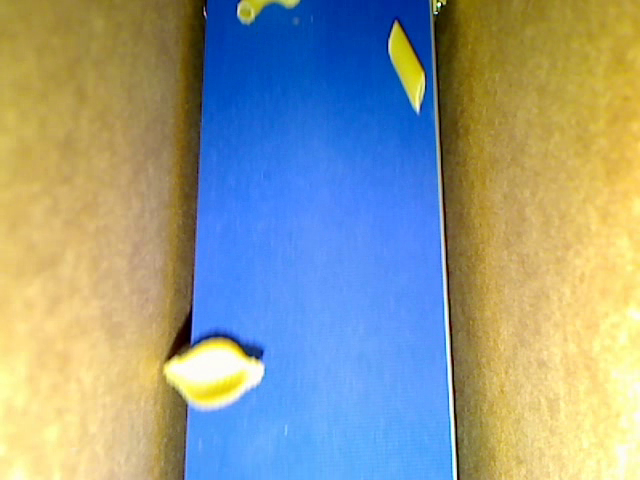elbow: (236, 1, 301, 26)
penne: (387, 19, 426, 115)
shell: (163, 336, 264, 411)
